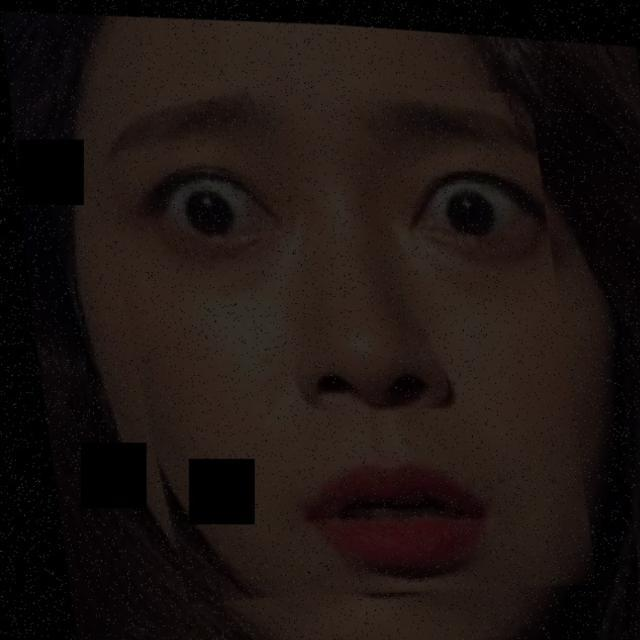Surprised: (61, 71, 581, 632)
